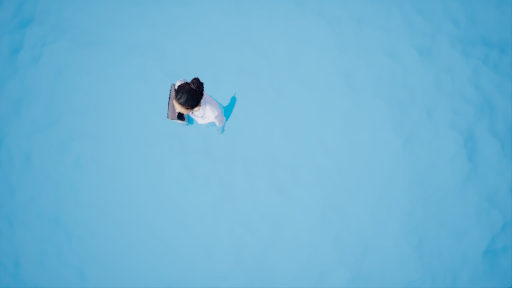person: (164, 77, 236, 132)
